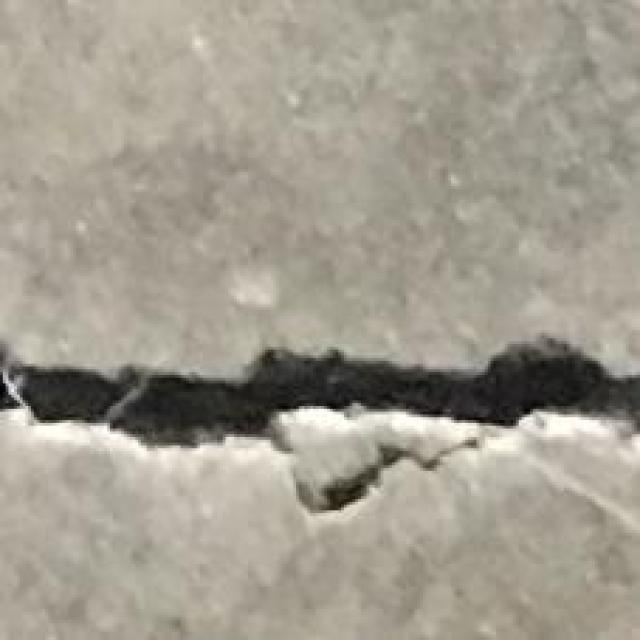horizontal crack: (0, 332, 640, 448)
